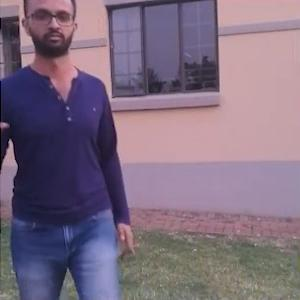follow: (0, 1, 134, 299)
